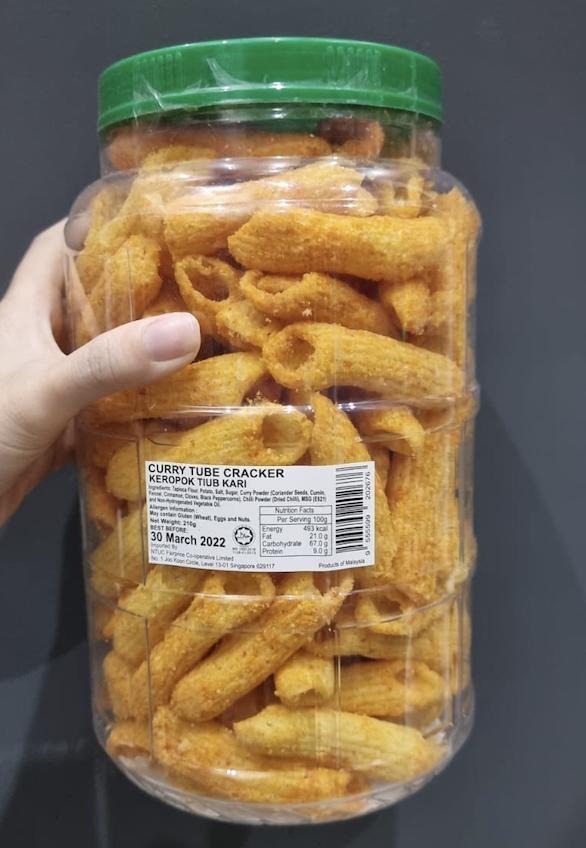Halal: (235, 529, 252, 546)
